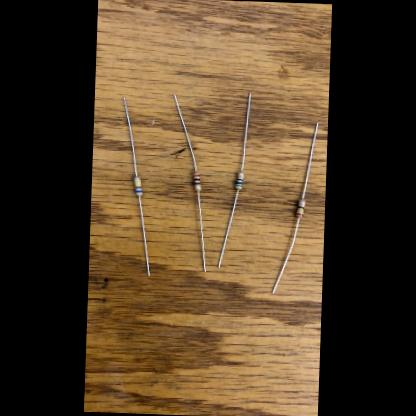resistor: (296, 198, 306, 218), (134, 177, 144, 196), (235, 172, 244, 190), (193, 172, 202, 190)
wire: (171, 94, 200, 172), (272, 218, 300, 294), (218, 189, 239, 268), (121, 98, 142, 177), (136, 198, 154, 276), (302, 122, 319, 198), (195, 192, 209, 272), (241, 95, 252, 172)
